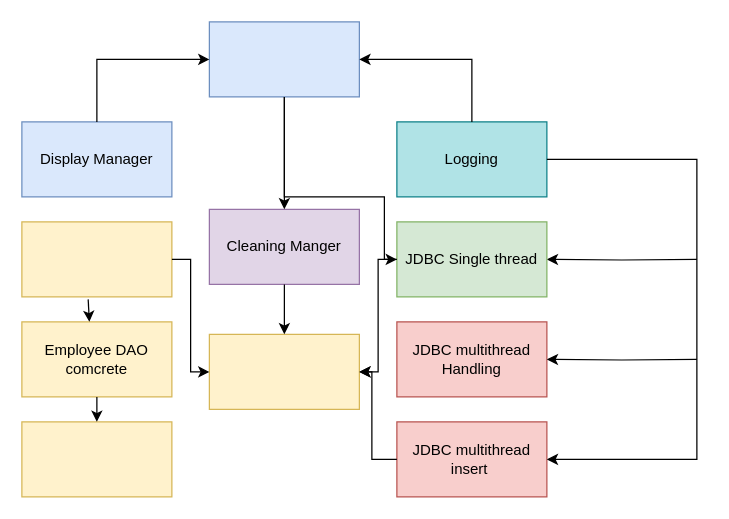
This 729x519 diagram has some shape labels left out. Here are the shapes that lost their labels. From the top down, the centre of each, then its label:
(x=283, y=59): Driver
(x=96, y=259): Employee DAO Info
(x=283, y=371): Employee Processing
(x=96, y=459): Employee DAO Interface
